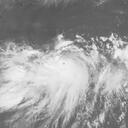cyclone: (42, 47, 90, 101)
